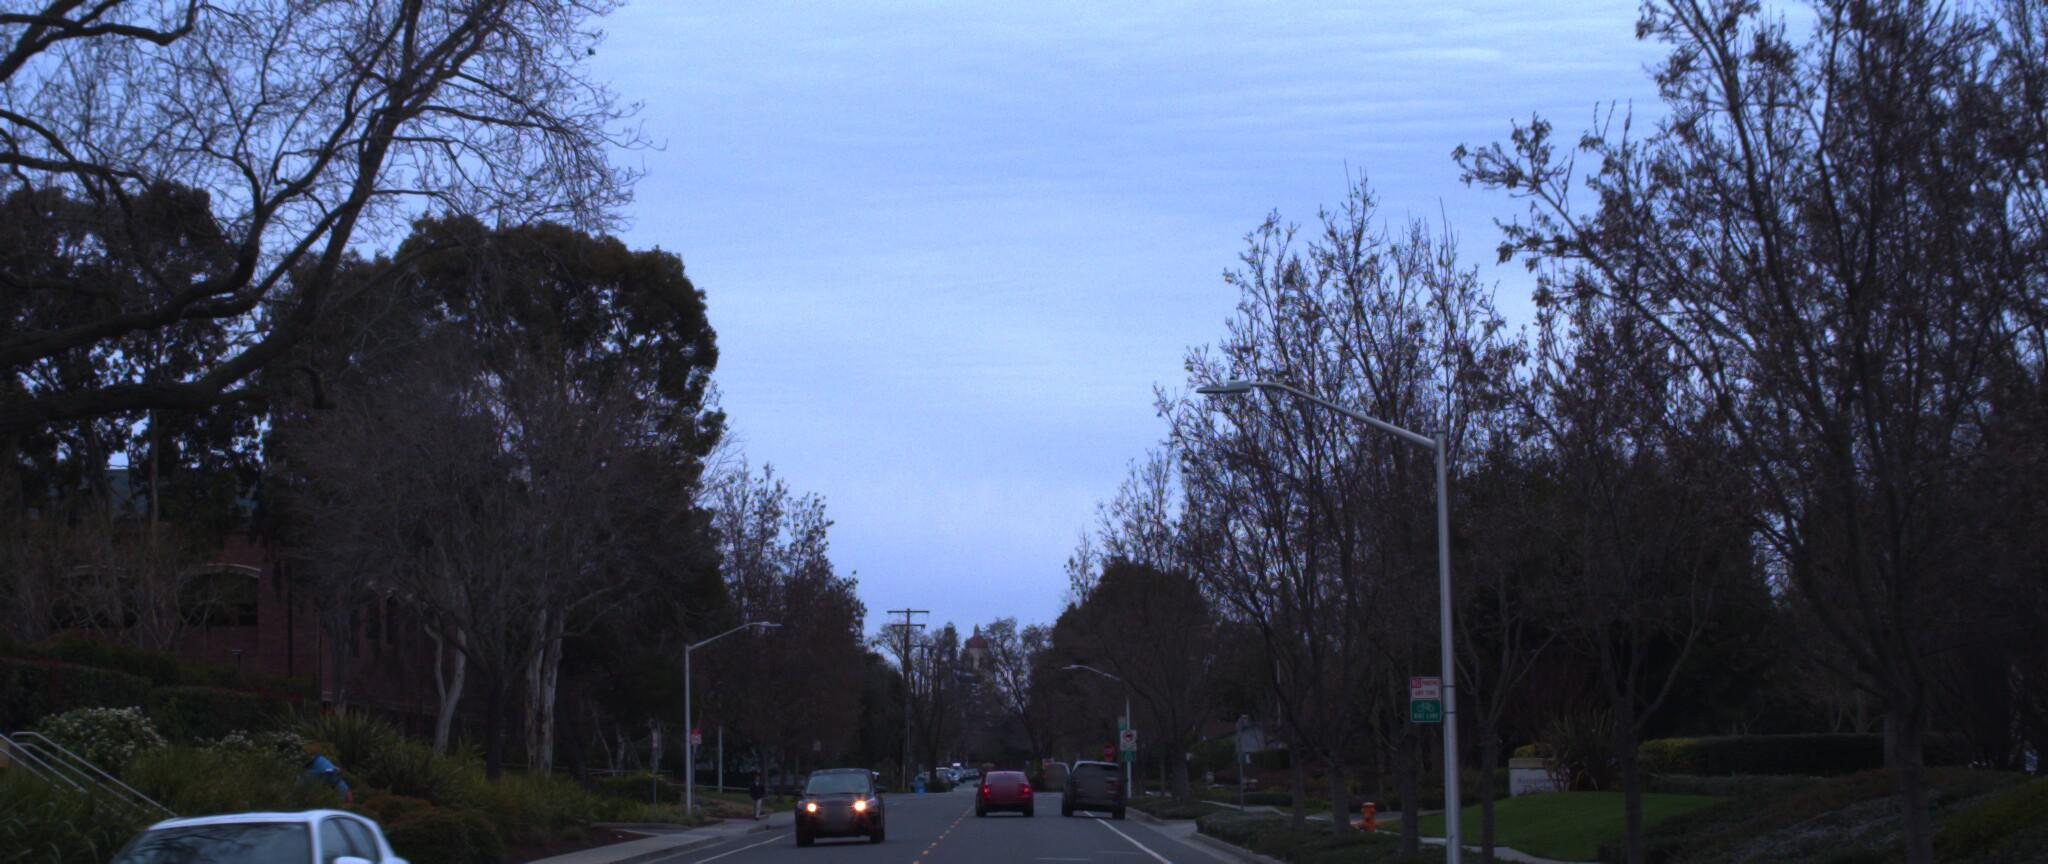car: (0, 801, 432, 864), (788, 760, 888, 843)
